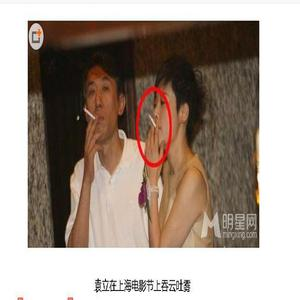cigarette: (148, 114, 160, 133), (83, 107, 95, 120)
